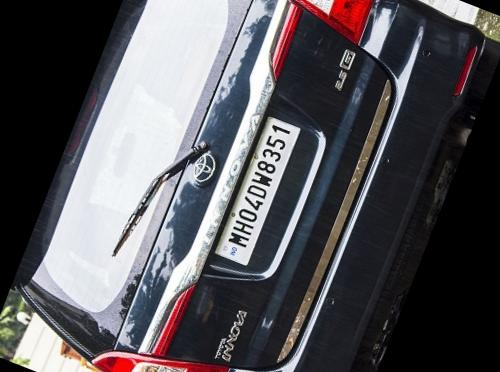plate: (195, 91, 321, 285)
